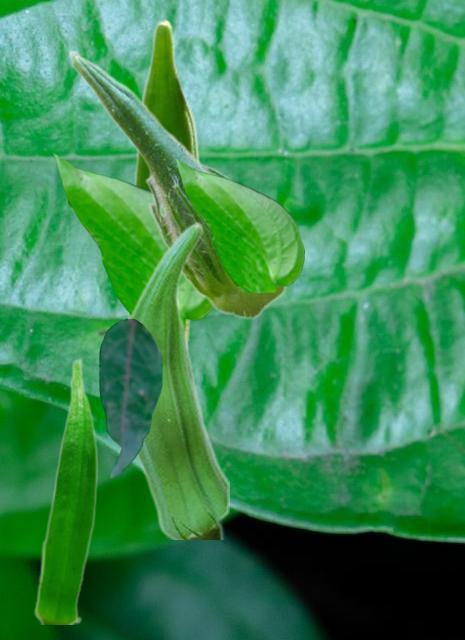okra: (68, 49, 286, 318), (127, 221, 228, 538), (127, 18, 201, 349), (34, 357, 98, 623)
